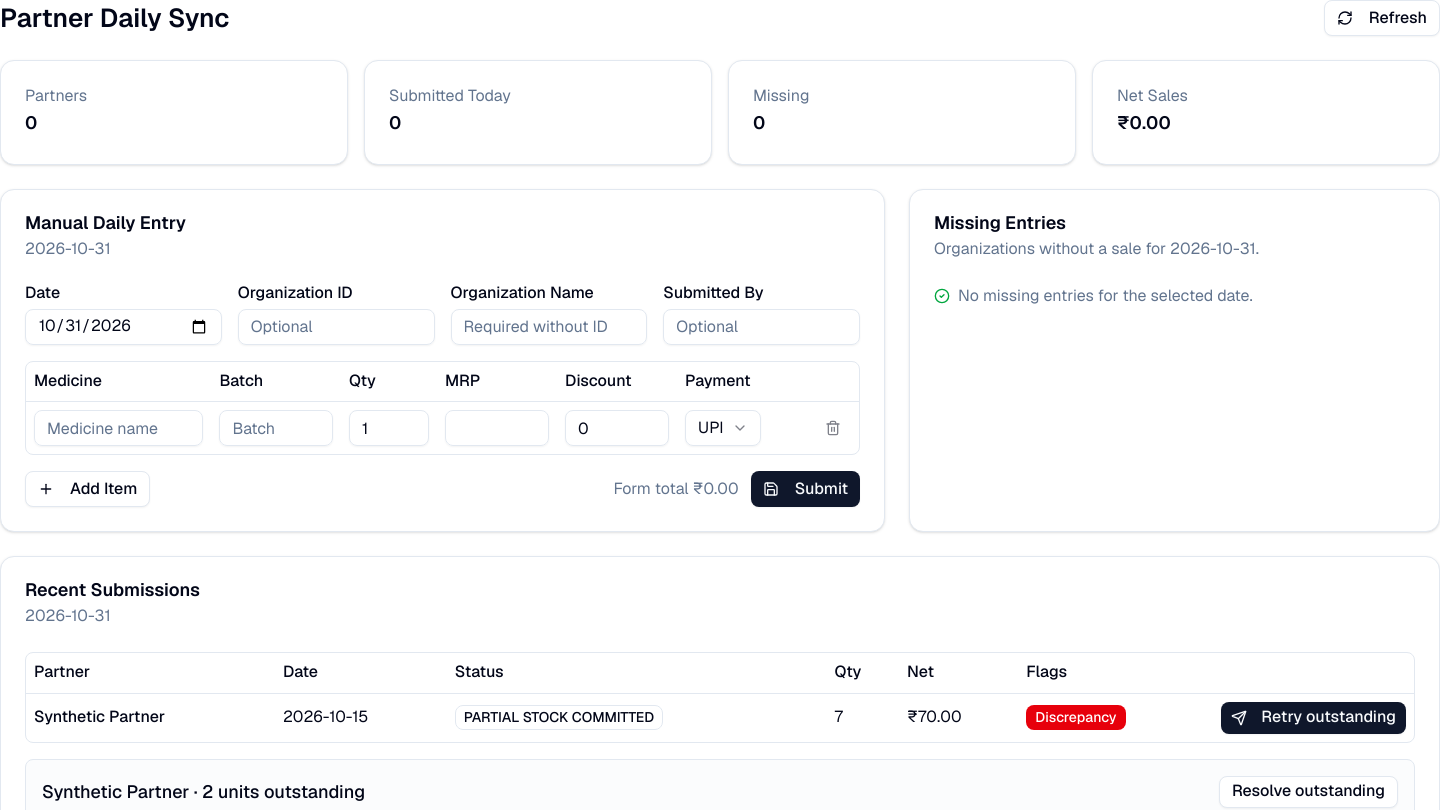
Test: enables a legacy partial retry and sends the current revision before showing completion
Click the button "Retry outstanding": (1314, 718) [1221,702,1406,734]
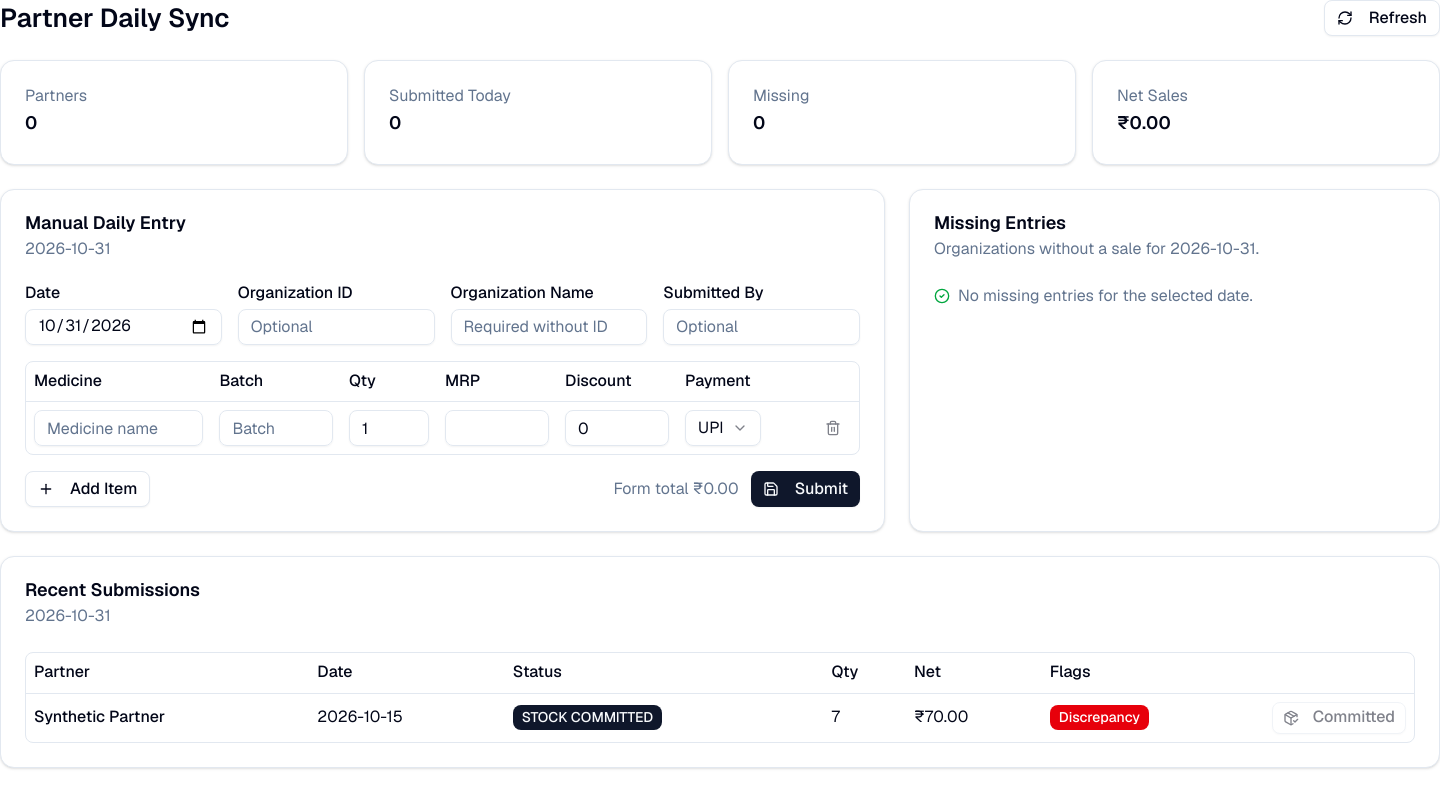
Result: the button "Committed" is disabled at [1272,702,1406,734]
